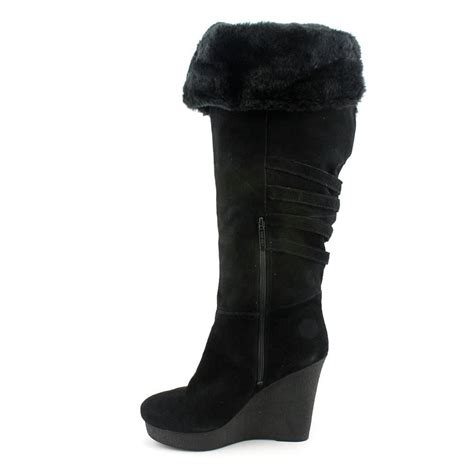gamuza: (142, 107, 345, 435)
